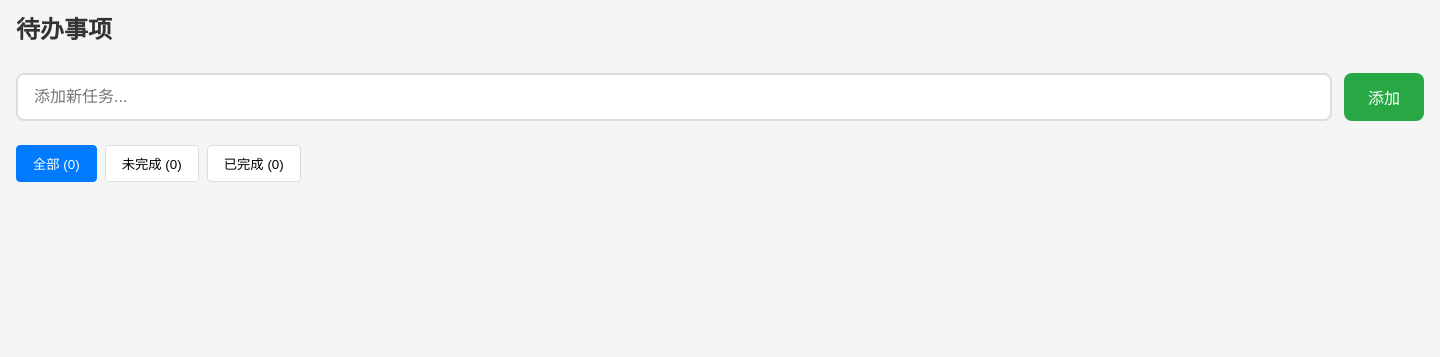
TodoList › should show clear completed button when there are completed todos
In the field with placeholder "添加新任务...": (674, 97) [16,73,1332,121], type "任务"
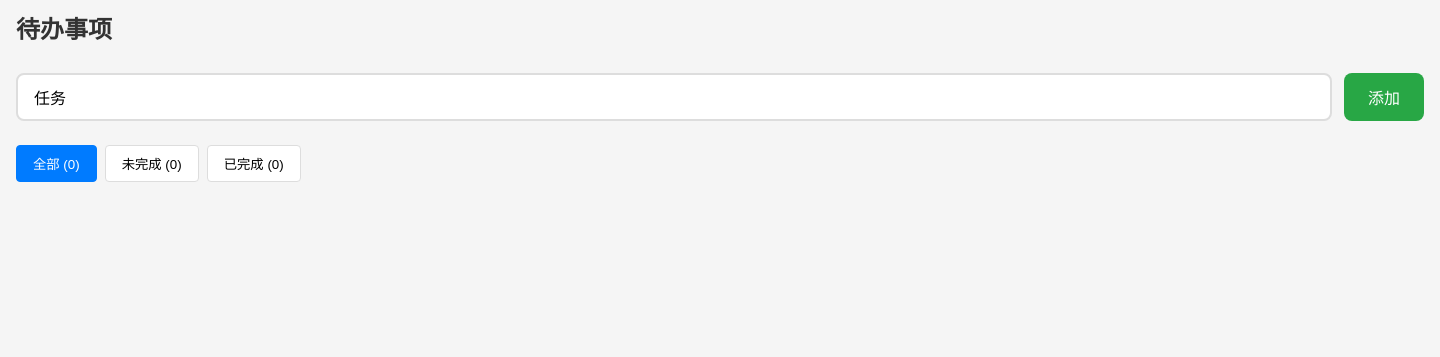
Click the button "添加": (1384, 97) [1344,73,1424,121]
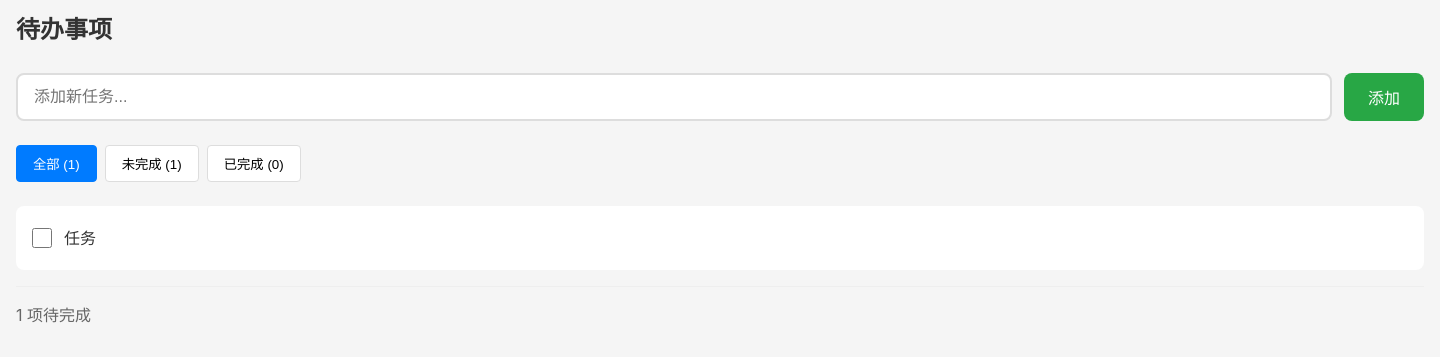
Click the checkbox: (42, 238) [32,228,52,248]
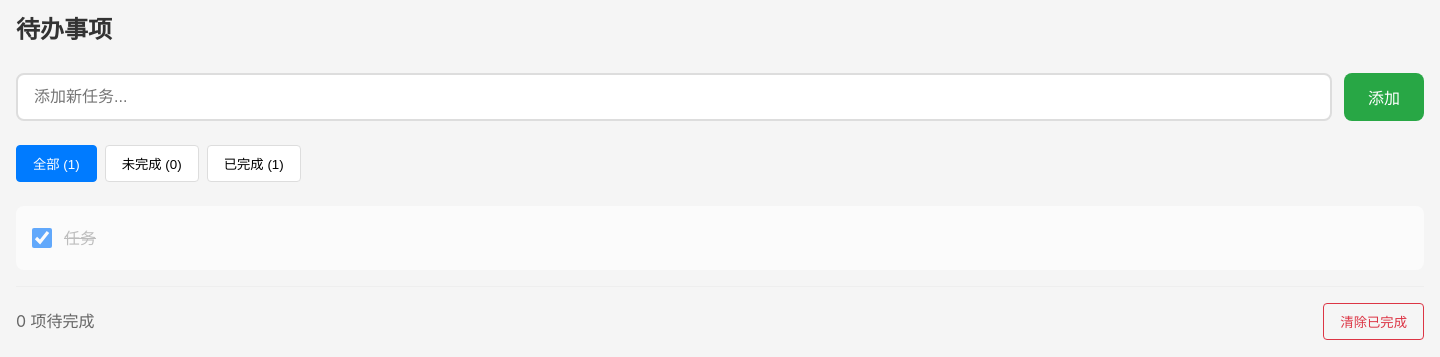
Result: the button "清除已完成" is shown at [1323,303,1424,340]
